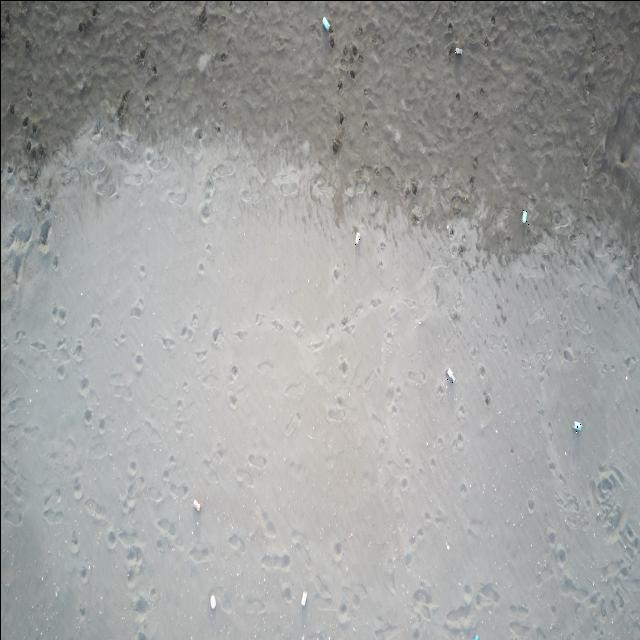Garbage: (332, 134, 342, 152), (322, 16, 331, 31), (572, 420, 582, 432), (192, 497, 200, 511), (209, 593, 216, 609), (520, 209, 527, 223), (446, 367, 452, 383), (300, 593, 307, 606), (353, 232, 360, 244), (454, 47, 462, 55), (328, 35, 332, 47), (472, 633, 479, 639)
